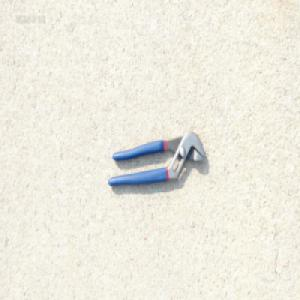Pliers: (106, 131, 205, 188)
